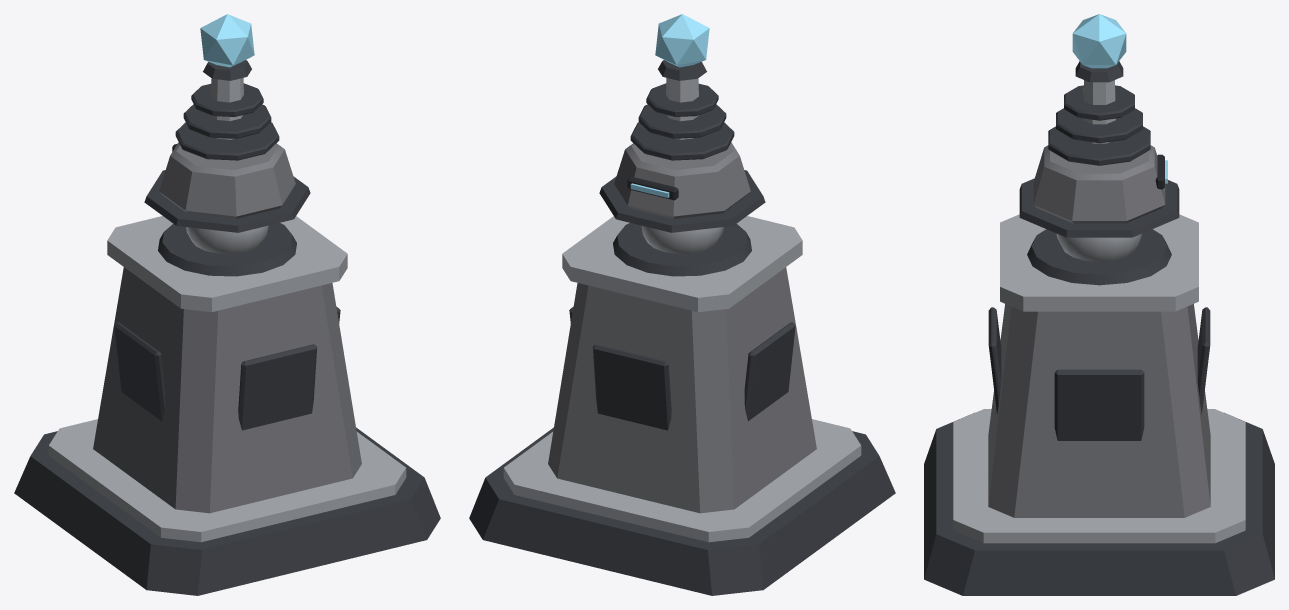
The model's file is Tower_Lightning.fbx.
3 renders of one model, left to right at view 1: azimuth 30°, elevation 25°; view 2: azimuth 150°, elevation 25°; view 3: azimuth 270°, elevation 25°, orthographic. The views are drawn at different scales.
Visible parts, largest first — view 1: LT_Core, LT_Base, LT_Base_Plate, LT_Collar, LT_Head_Housing, LT_Core_Plate_1, LT_Rotation_Plate, LT_Core_Plate_3, LT_Head_Plate, LT_Coil_Ring_0, LT_Orb, LT_Coil_Ring_1 (+4 smaller); view 2: LT_Core, LT_Base, LT_Base_Plate, LT_Collar, LT_Head_Housing, LT_Core_Plate_0, LT_Rotation_Plate, LT_Core_Plate_3, LT_Head_Plate, LT_Coil_Ring_0, LT_Orb, LT_Coil_Ring_1 (+4 smaller); view 3: LT_Core, LT_Base, LT_Base_Plate, LT_Collar, LT_Head_Housing, LT_Core_Plate_2, LT_Rotation_Plate, LT_Head_Plate, LT_Coil_Ring_0, LT_Orb, LT_Coil_Ring_1, LT_Neck_Joint (+5 smaller).
Part boxes in pixels (left/top/right/bottom): LT_Core: left=93, top=267, right=361, bottom=513; LT_Base: left=14, top=427, right=440, bottom=595; LT_Base_Plate: left=48, top=419, right=406, bottom=542; LT_Collar: left=107, top=216, right=347, bottom=312; LT_Head_Housing: left=159, top=142, right=295, bottom=218; LT_Core_Plate_1: left=238, top=344, right=317, bottom=430; LT_Rotation_Plate: left=158, top=223, right=296, bottom=276; LT_Core_Plate_3: left=114, top=322, right=165, bottom=421; LT_Head_Plate: left=144, top=170, right=310, bottom=232; LT_Coil_Ring_0: left=175, top=122, right=279, bottom=160; LT_Orb: left=200, top=14, right=254, bottom=67; LT_Coil_Ring_1: left=183, top=104, right=271, bottom=138; LT_Core: left=548, top=267, right=816, bottom=513; LT_Base: left=469, top=427, right=895, bottom=595; LT_Base_Plate: left=503, top=419, right=861, bottom=542; LT_Collar: left=562, top=216, right=802, bottom=312; LT_Head_Housing: left=614, top=142, right=750, bottom=218; LT_Core_Plate_0: left=592, top=344, right=671, bottom=430; LT_Rotation_Plate: left=613, top=223, right=751, bottom=276; LT_Core_Plate_3: left=744, top=322, right=795, bottom=421; LT_Head_Plate: left=599, top=170, right=765, bottom=232; LT_Coil_Ring_0: left=630, top=122, right=734, bottom=160; LT_Orb: left=655, top=14, right=709, bottom=67; LT_Coil_Ring_1: left=638, top=104, right=726, bottom=138; LT_Core: left=988, top=304, right=1210, bottom=517; LT_Base: left=924, top=412, right=1274, bottom=595; LT_Base_Plate: left=953, top=409, right=1245, bottom=543; LT_Collar: left=1000, top=214, right=1198, bottom=311; LT_Head_Housing: left=1033, top=145, right=1165, bottom=223; LT_Core_Plate_2: left=1054, top=369, right=1144, bottom=440; LT_Rotation_Plate: left=1027, top=229, right=1171, bottom=285; LT_Head_Plate: left=1019, top=178, right=1179, bottom=237; LT_Coil_Ring_0: left=1048, top=126, right=1150, bottom=165; LT_Orb: left=1072, top=14, right=1126, bottom=68; LT_Coil_Ring_1: left=1056, top=108, right=1142, bottom=143; LT_Neck_Joint: left=1056, top=233, right=1142, bottom=261.
Size of the model in its own units: 3 by 4.79 by 3.
